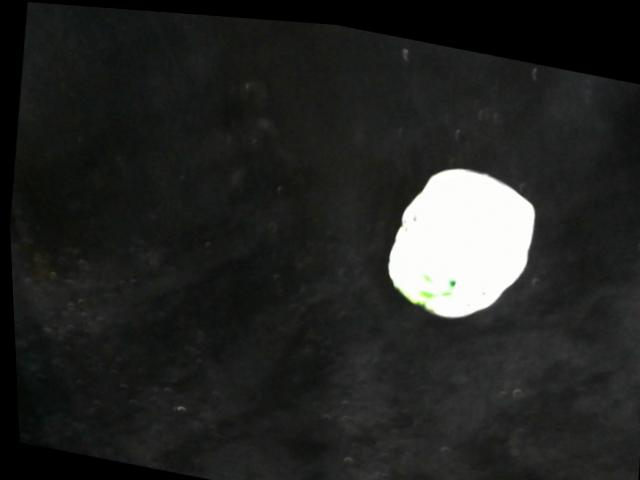can: (372, 147, 540, 320)
